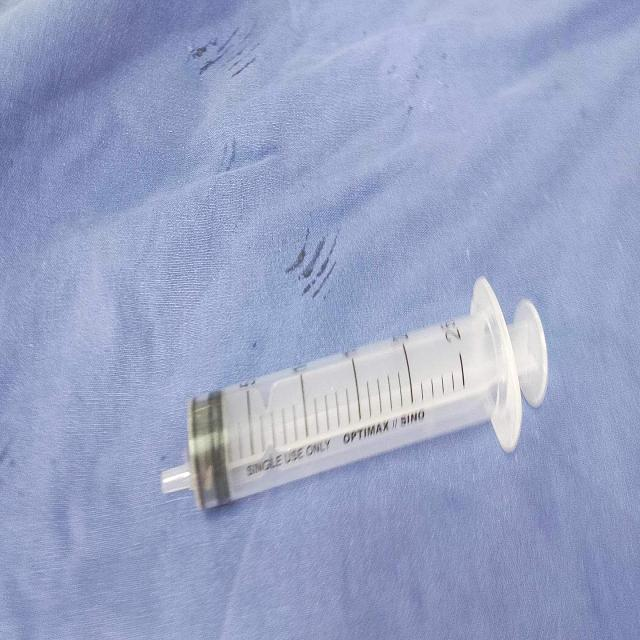Sharps: (160, 274, 548, 512)
